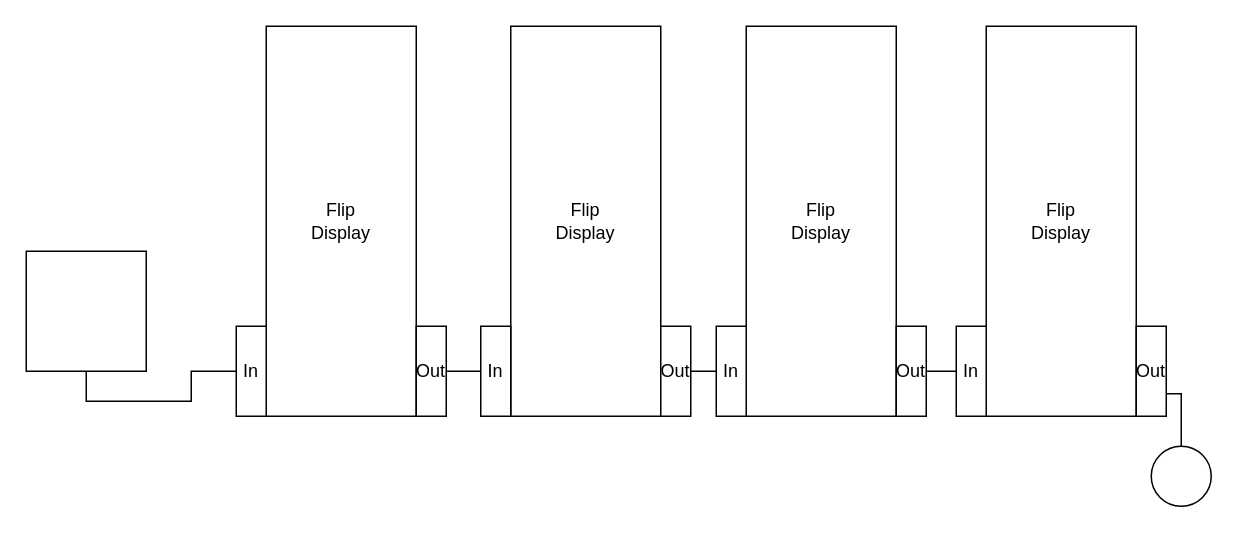
Image size: 1241x533. Some labels were removed from this diagram. The shapes that lost their labels are listed below. From the top down, each one's box as (x1, y1, x2, y2) in pixels, then its label:
(25, 250, 146, 371): Display Command
(1150, 445, 1211, 506): Terminal
